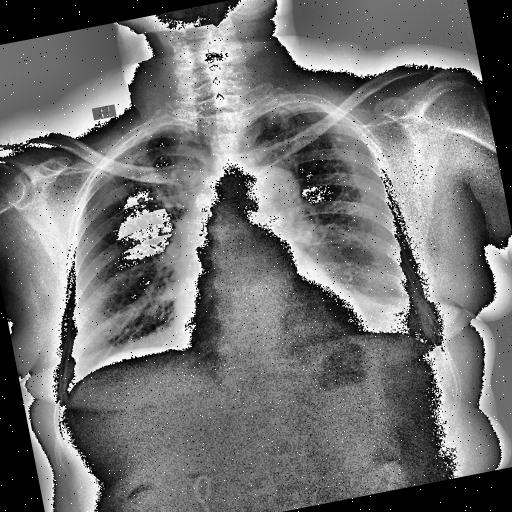0- Aortic enlargement: (226, 158, 308, 238), (230, 158, 312, 234), (236, 160, 306, 230)
11- Pleural thickening: (126, 116, 194, 146)
3- Cardiomegaly: (166, 275, 376, 375), (168, 274, 368, 372), (172, 293, 372, 379)
7- Lung Opacity: (308, 265, 490, 384), (261, 102, 302, 146)
8- Nodule-Mass: (194, 192, 212, 214)
9- Other lesion: (308, 265, 490, 384)
